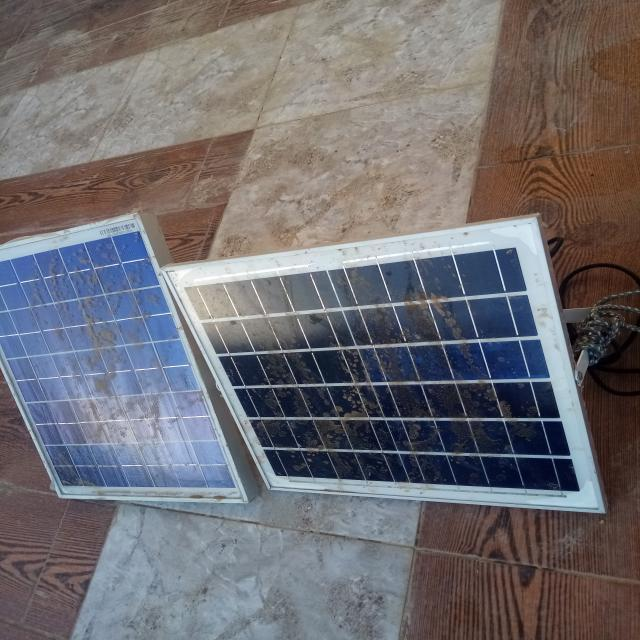faulty: (162, 218, 606, 513), (0, 215, 246, 502)
